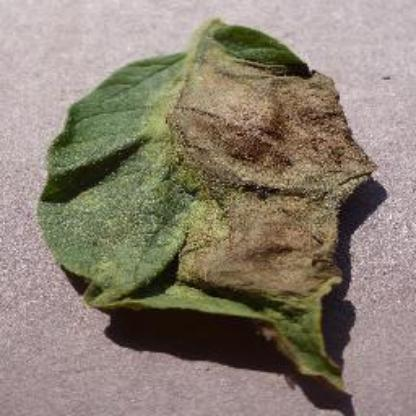Late-Blight: (31, 14, 384, 402)
